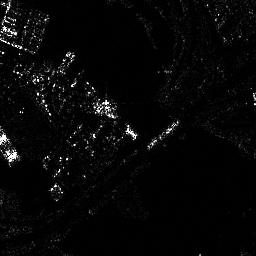ship: (145, 120, 180, 148)
